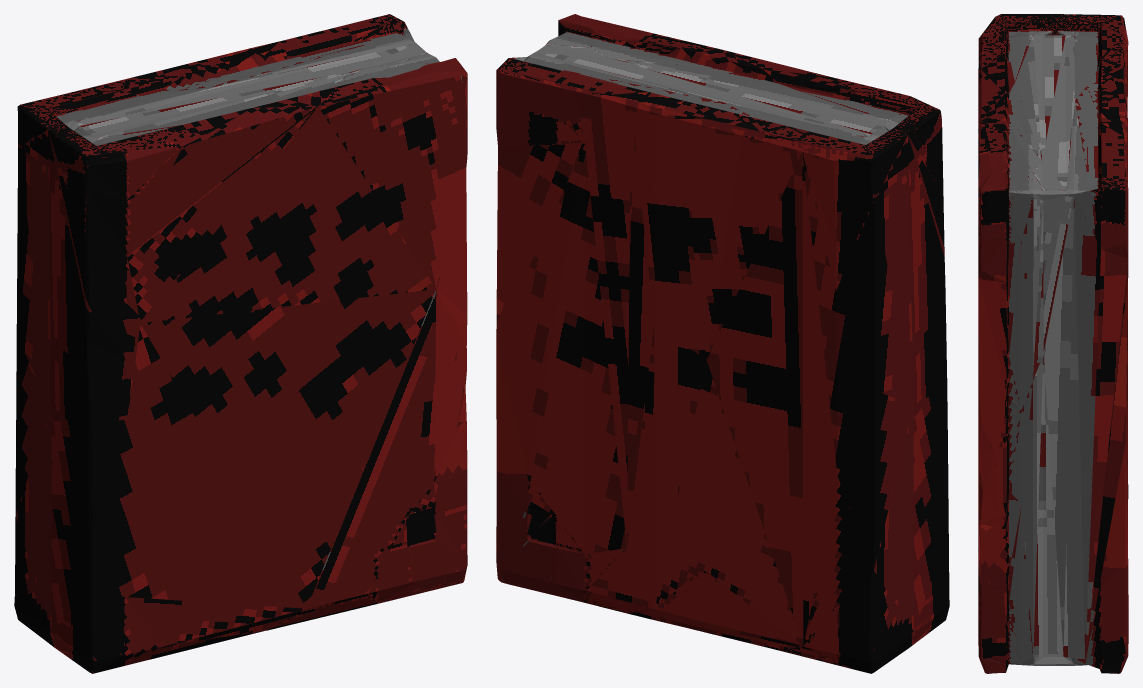
3 views of the same model, side by side, from view 1: azimuth 30°, elevation 25°; view 2: azimuth 150°, elevation 25°; view 3: azimuth 270°, elevation 25° (orthographic). The views are drawn at different scales.
Visible parts, largest first — view 1: OBJ133; view 2: OBJ133; view 3: OBJ133.
Part boxes in pixels (box(x1,y1,x2,y2)): OBJ133: box(14, 14, 467, 673); OBJ133: box(496, 14, 949, 673); OBJ133: box(978, 14, 1128, 673).
Bounding box in the file's own units: 0.2807 × 0.3649 × 0.102.
1 material, 1 textured.
